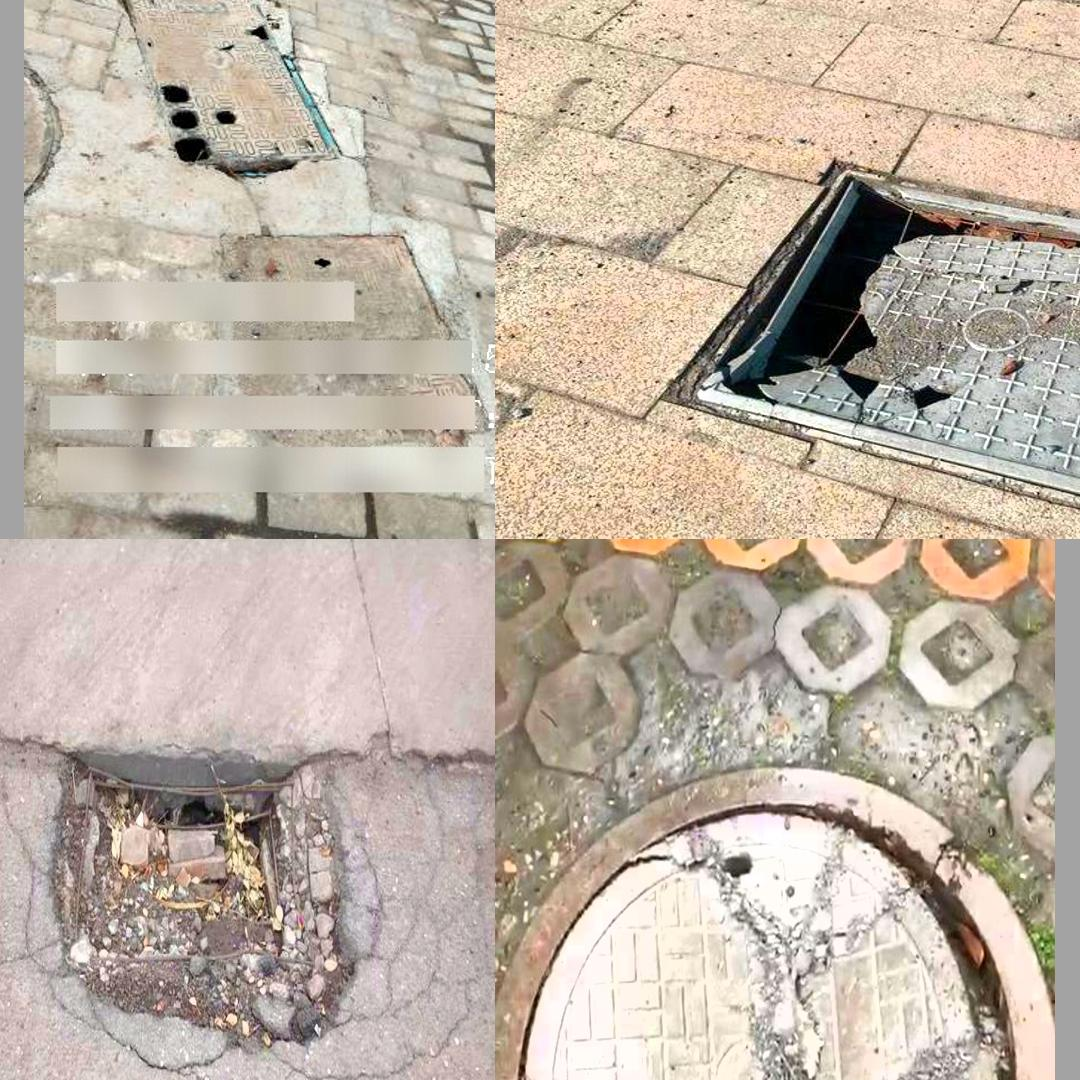broke: (659, 150, 1080, 537), (512, 778, 1043, 1080), (1, 673, 394, 1080), (105, 0, 346, 181)
